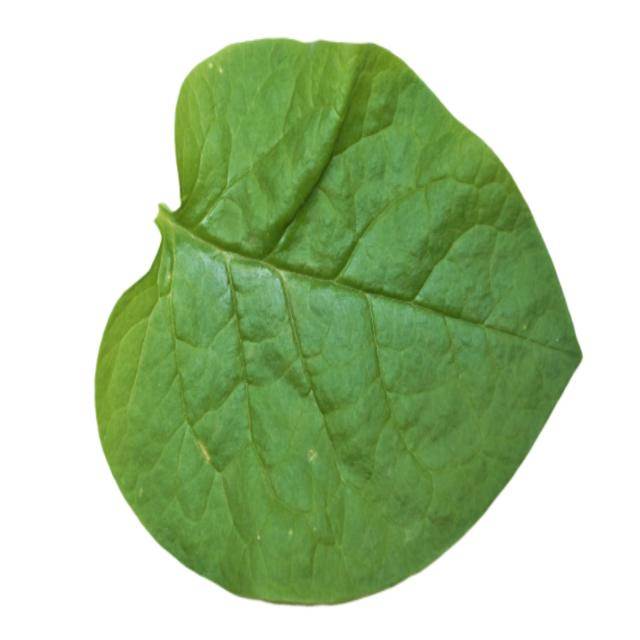Medicinal-Basale: (93, 36, 584, 605)
